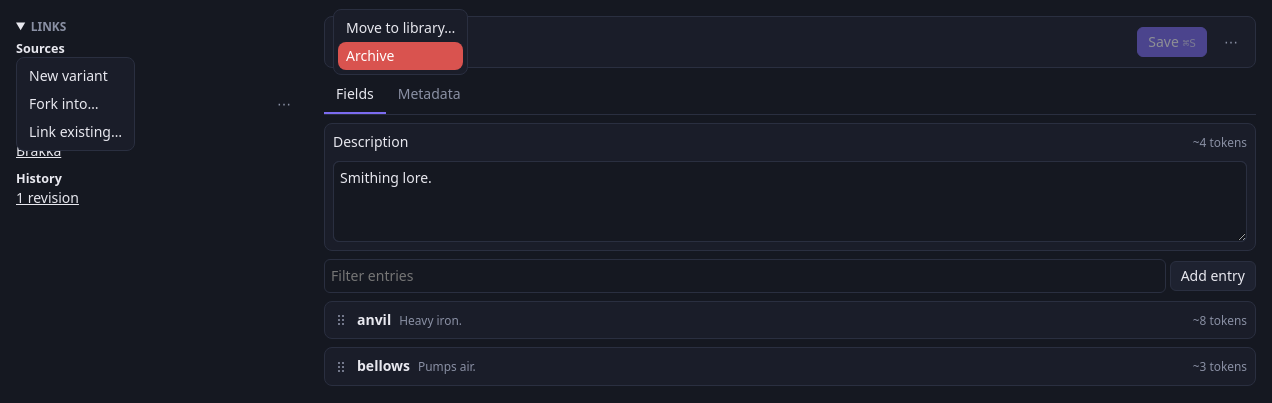
Test: the Metadata tab names the lorebook's library
Click the tab "Metadata".
click(429, 95)  # box [386, 76, 473, 114]
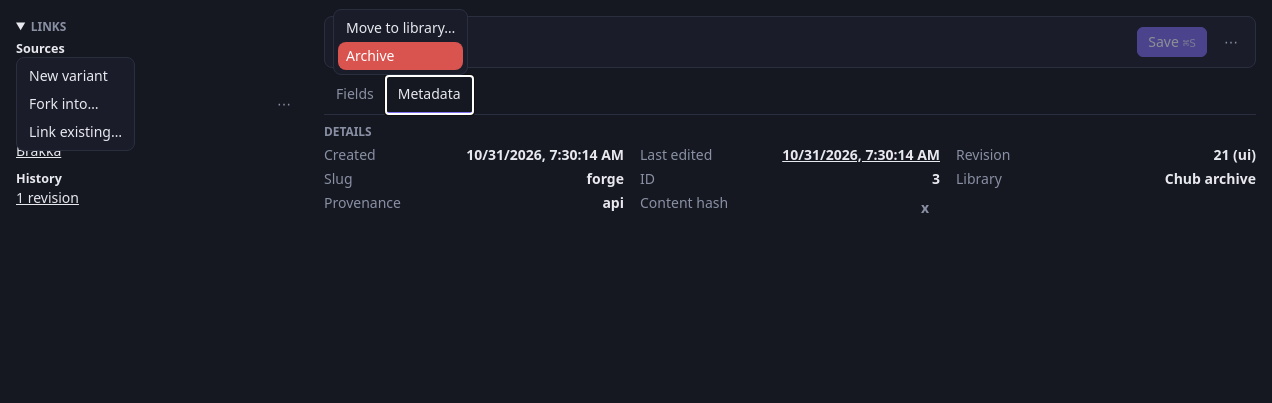
Expected: the text "Chub archive" is shown, [1165, 169, 1256, 189]
